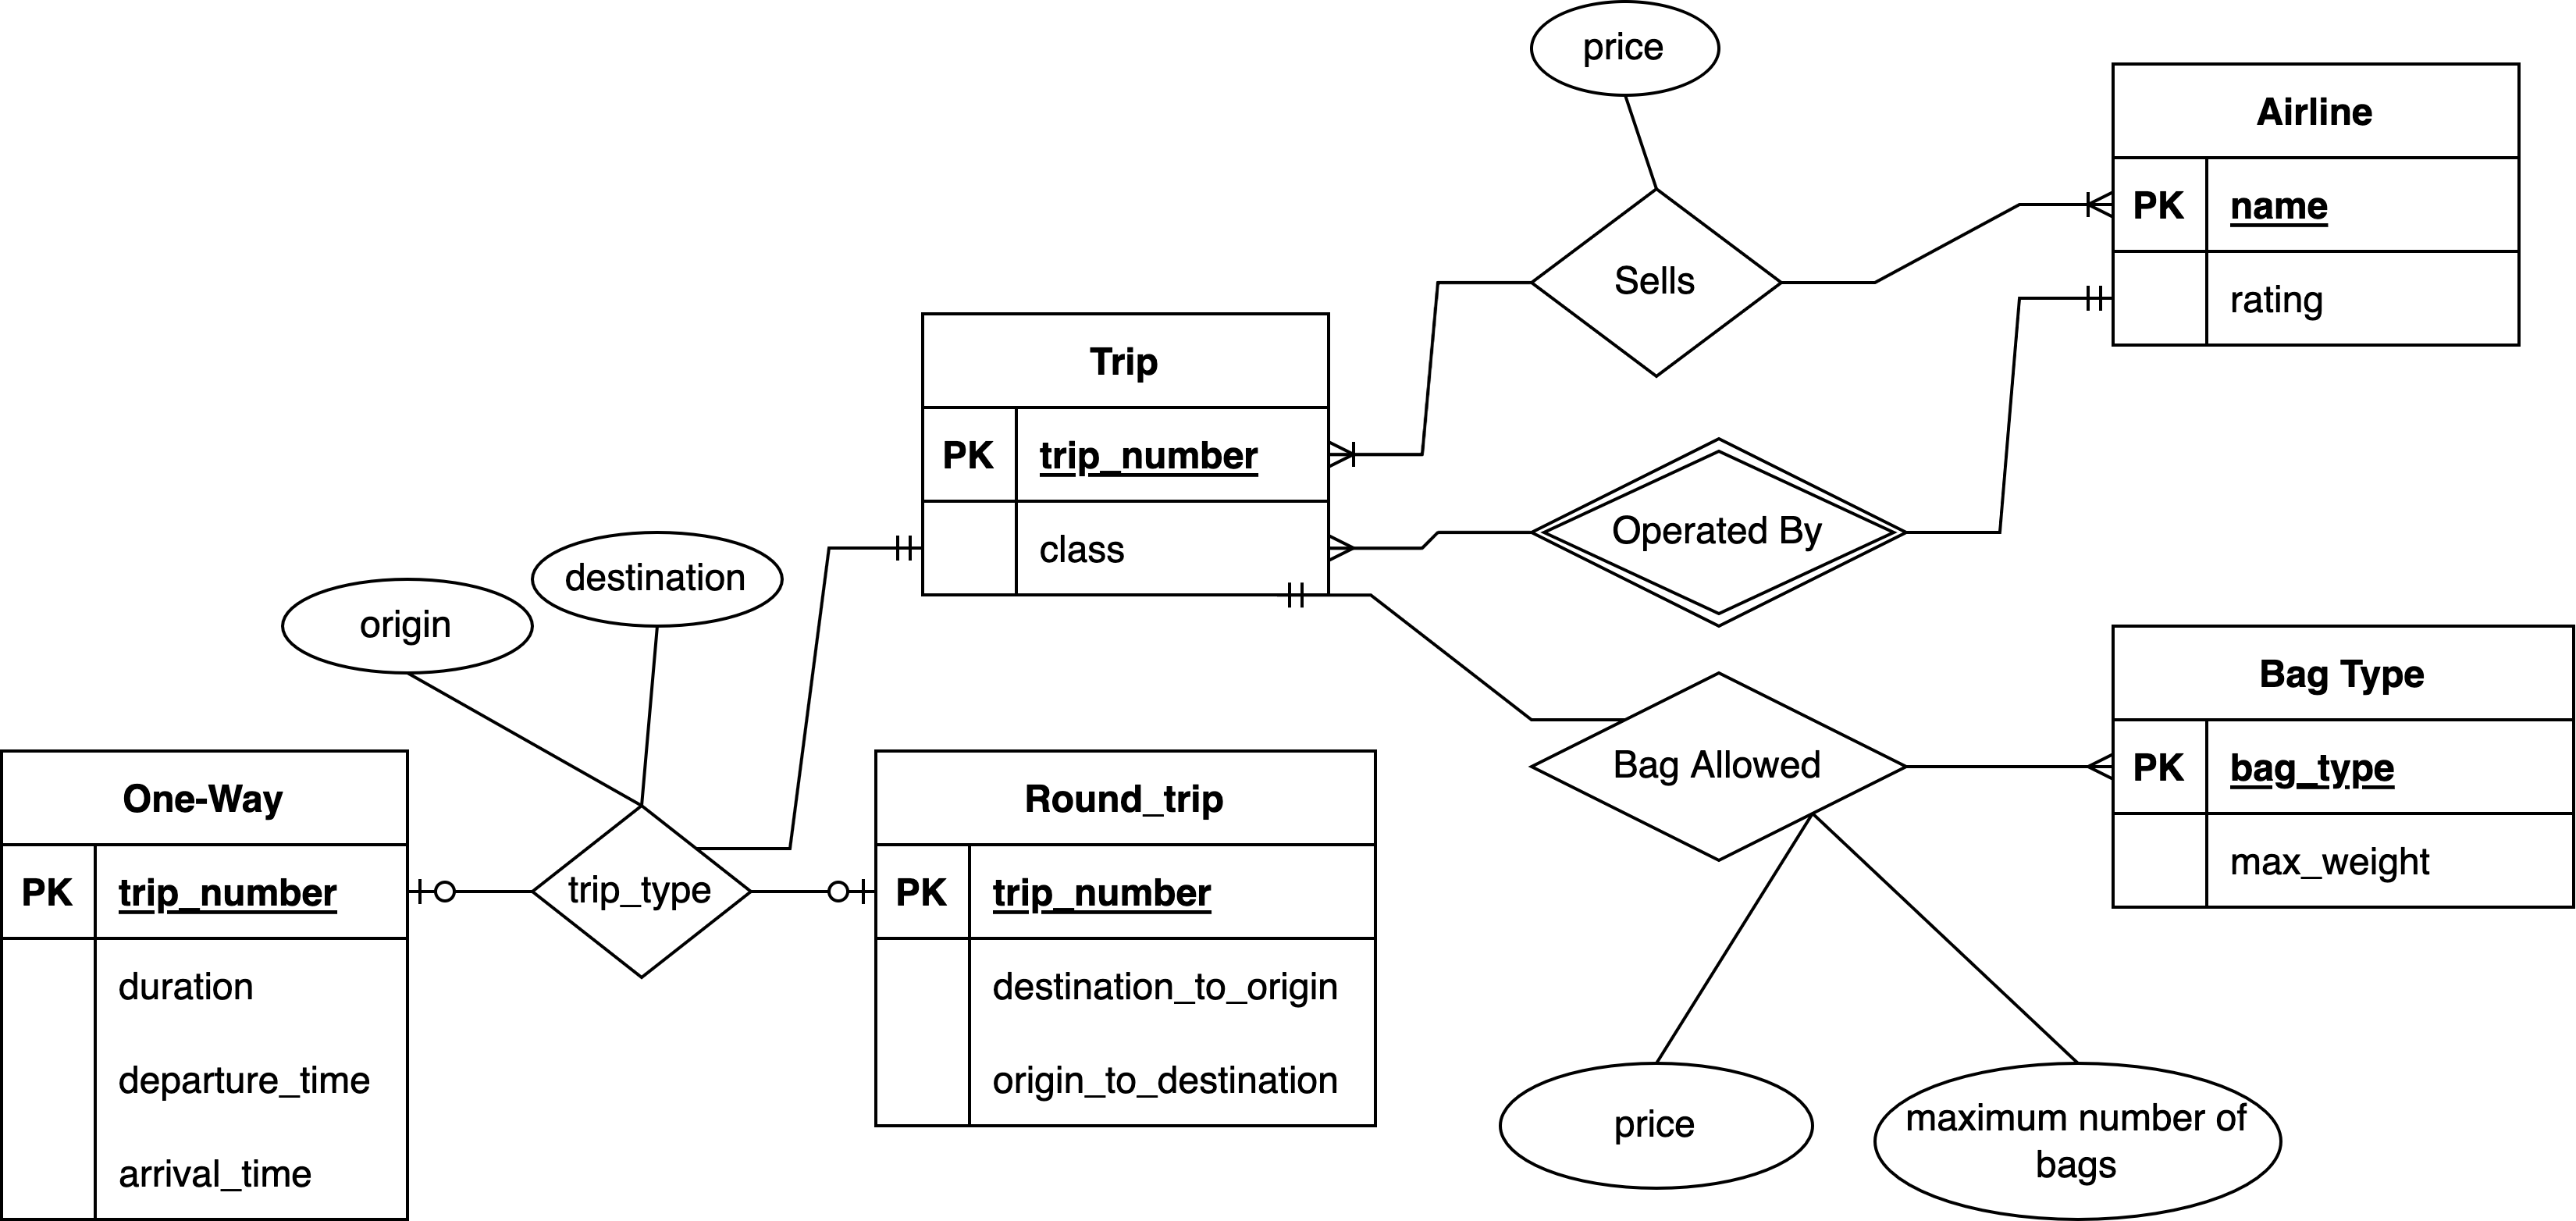entity: (0, 746, 409, 1221), (876, 751, 1373, 1121), (2114, 626, 2573, 907), (2111, 64, 2525, 348), (925, 314, 1326, 590)
many: (2042, 730, 2114, 800), (2044, 179, 2114, 233), (1326, 516, 1380, 574), (1331, 426, 1377, 480)
one: (406, 864, 478, 930), (830, 531, 918, 572), (812, 866, 876, 922), (1268, 572, 1339, 618), (2060, 273, 2118, 329)
rel: (1530, 670, 1907, 858), (1536, 437, 1907, 628), (1536, 191, 1783, 376), (537, 809, 751, 986)
rel_attr: (1870, 1062, 2284, 1221), (1495, 1058, 1812, 1186), (526, 532, 784, 633), (278, 578, 534, 672), (1533, 5, 1717, 99)
